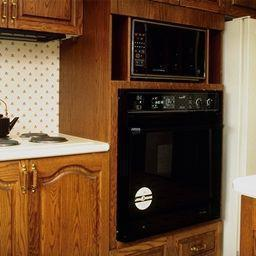Electrodomestico: (121, 86, 223, 236)
